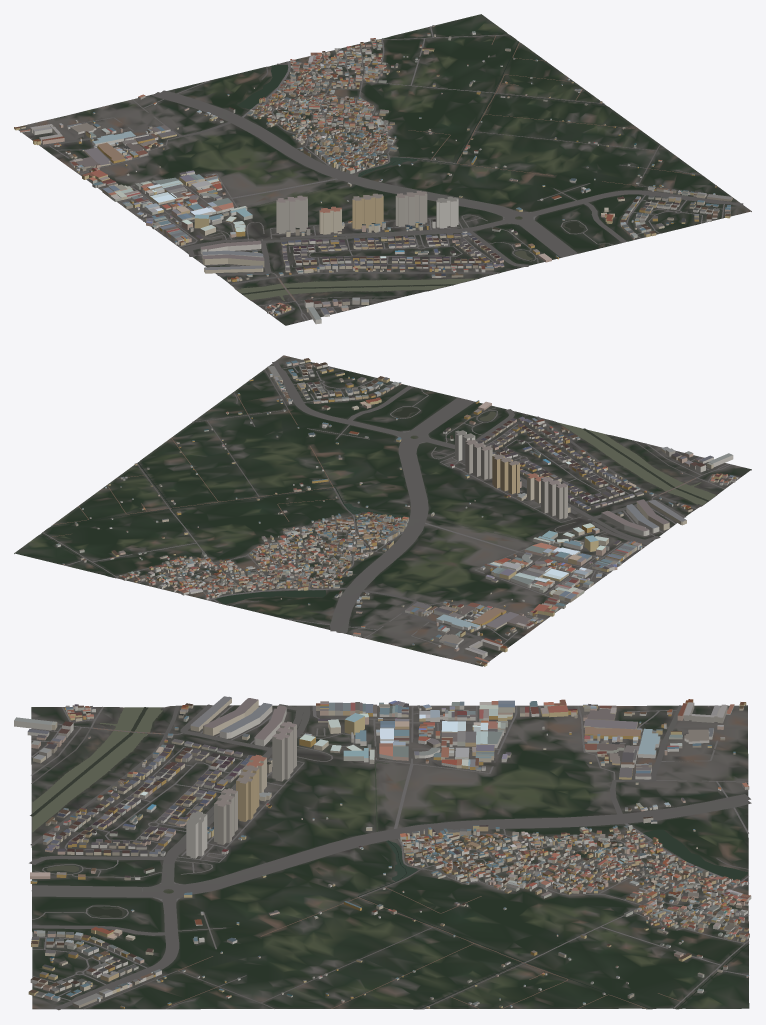
3 renders of one model, top to bottom at view 1: azimuth 30°, elevation 25°; view 2: azimuth 150°, elevation 25°; view 3: azimuth 270°, elevation 25°, orthographic. The views are drawn at different scales.
Visible parts, largest first — view 1: ground, buildings, roads, water; view 2: ground, buildings, roads, water; view 3: ground, buildings, roads, water.
Boxes of the visible parts, x1,y1,x2,y2 form: ground: [18, 14, 751, 325]; buildings: [14, 25, 732, 324]; roads: [30, 26, 743, 320]; water: [237, 34, 605, 300]; ground: [14, 355, 751, 666]; buildings: [55, 358, 738, 666]; roads: [42, 361, 739, 655]; water: [41, 407, 716, 604]; ground: [31, 705, 749, 1009]; buildings: [14, 696, 751, 1008]; roads: [29, 704, 751, 1010]; water: [30, 707, 748, 1008].
Bounding box in the file's own units: 1429 × 95.99 × 1443.
